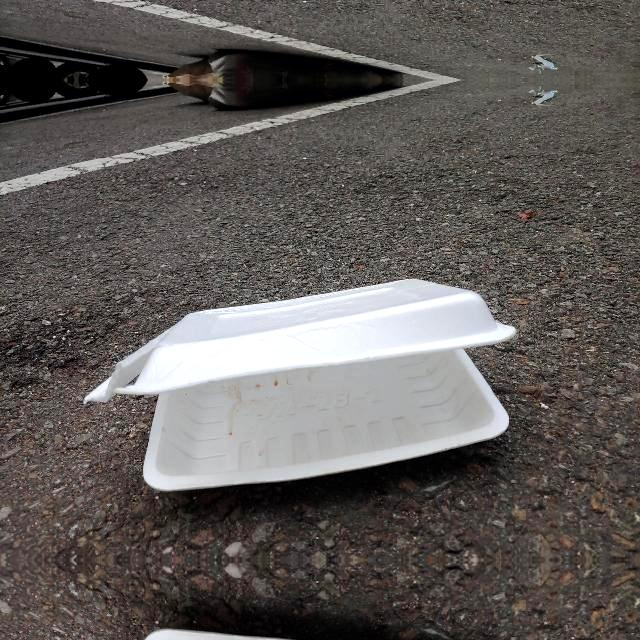Styrofoam: (83, 277, 517, 493), (83, 279, 516, 491)
